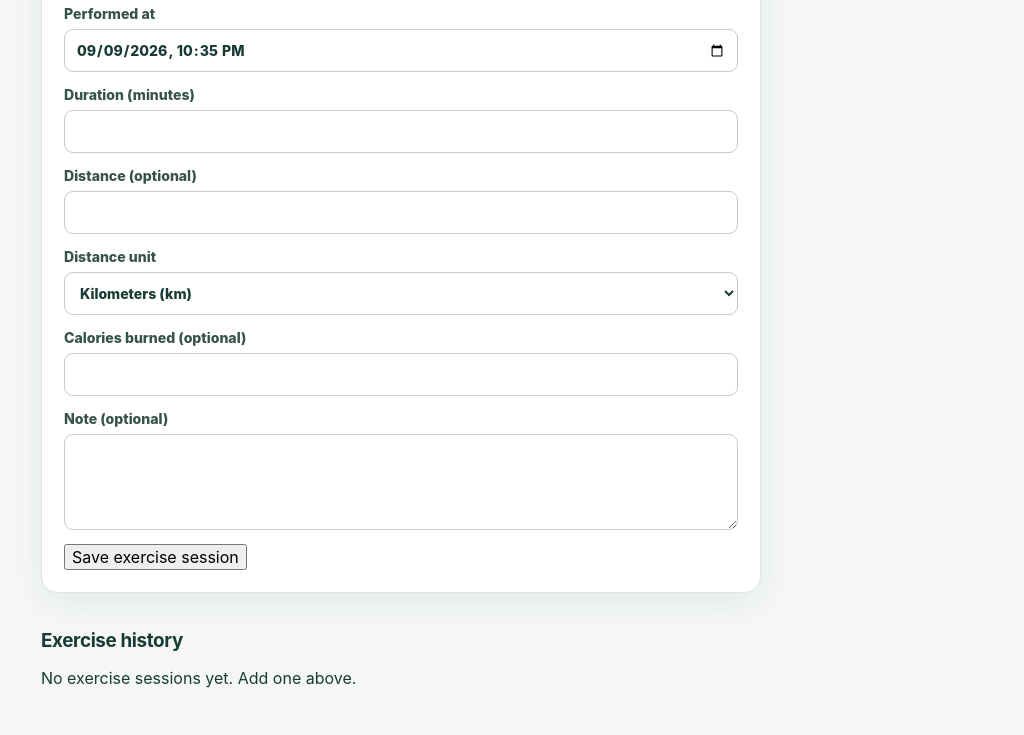
ExercisePage › validates and creates a miles session
(page scrolled)
Expected: the text "No exercise sessions yet. Add one above." is shown, [41,668,356,688]
Click the button "Save exercise session" at (155, 557), box [64,544,247,570]
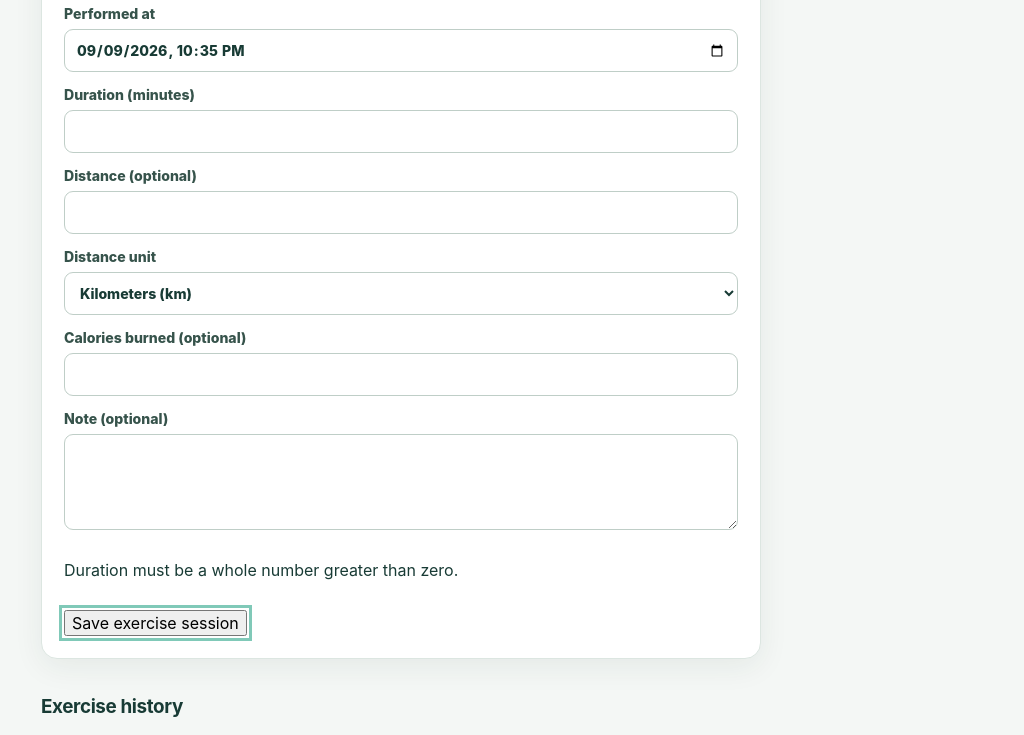
Result: the message reads "Duration must be a whole number greater than zero." at [64,560,458,580]
Type "45" into the number field labelled "Duration" at (401, 132), box [64,110,738,153]
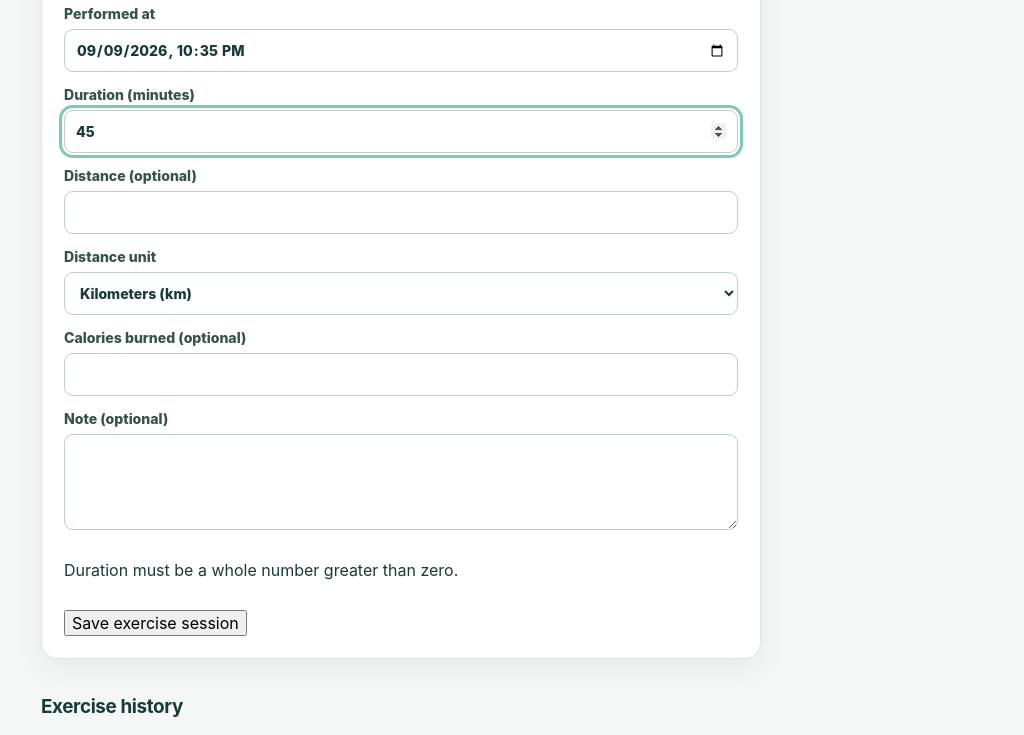
Type "3" into the number field labelled "Distance" at (401, 213), box [64,191,738,234]
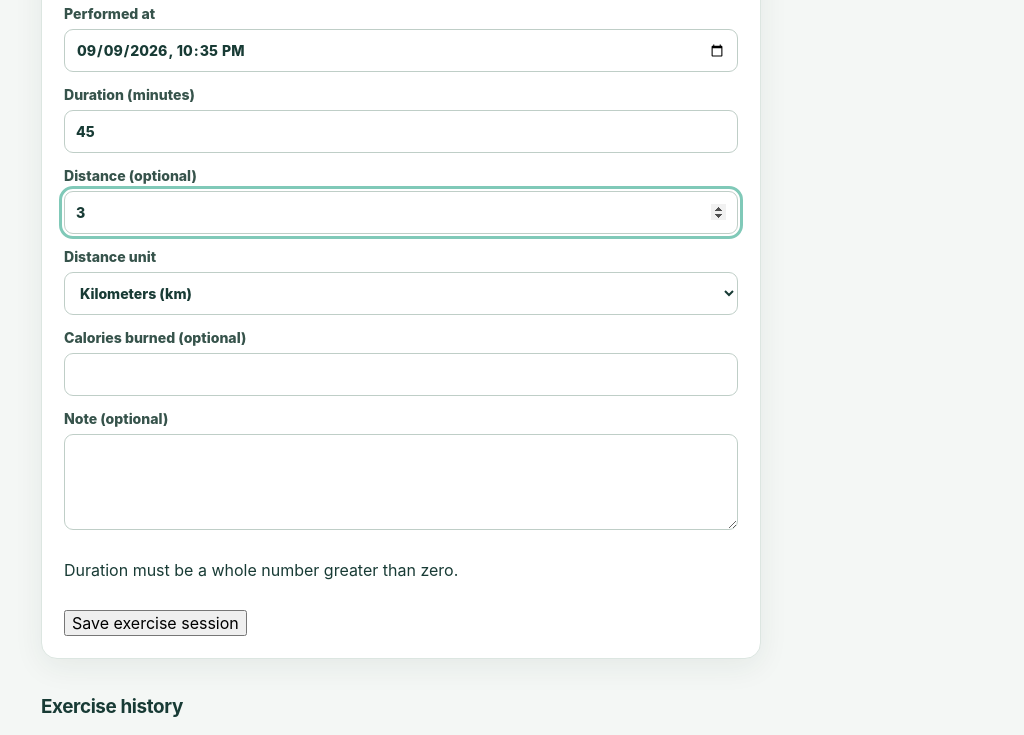
Select "Miles (mi)" in the dropdown labelled "Distance unit" at (401, 294), box [64,272,738,315]
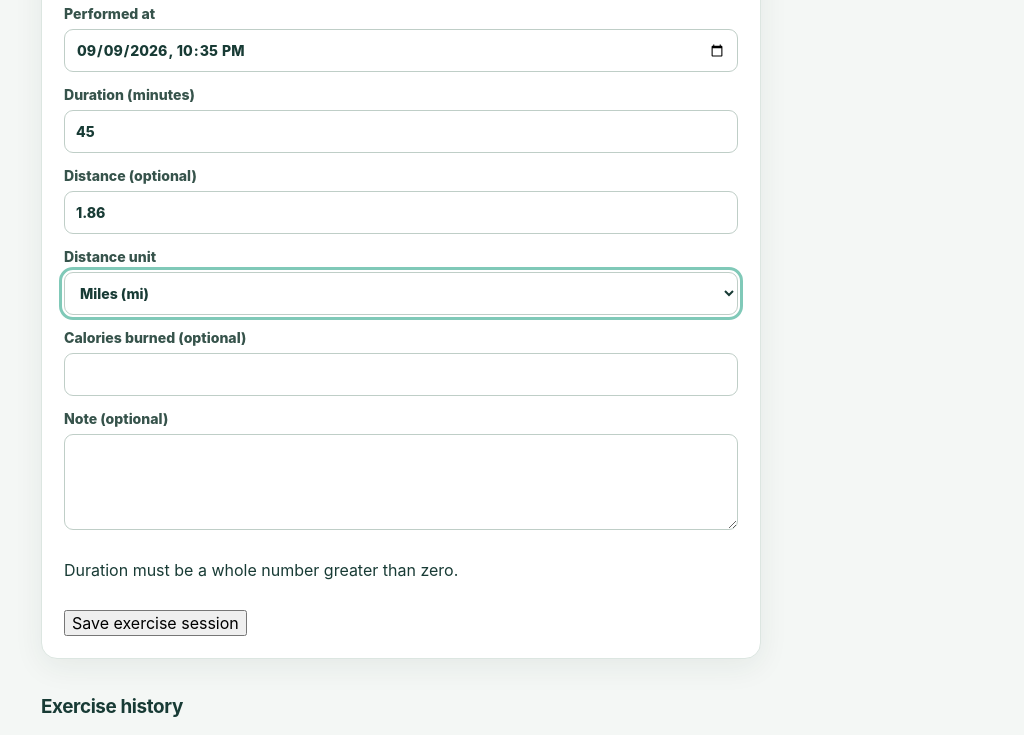
Click the button "Save exercise session" at (155, 623), box [64,610,247,636]
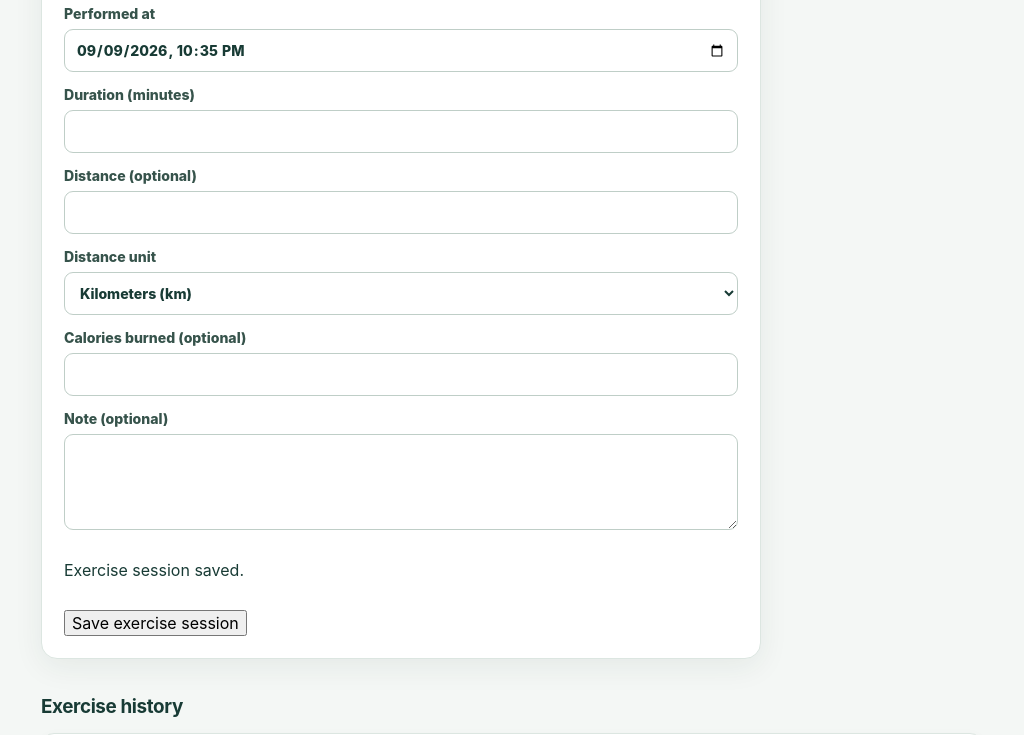
Result: the text "Exercise session saved." is shown at [64,560,244,580]
